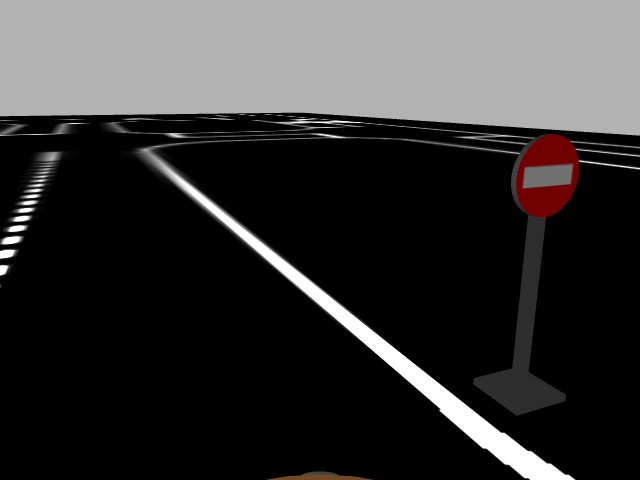prohibited: (517, 133, 581, 220)
